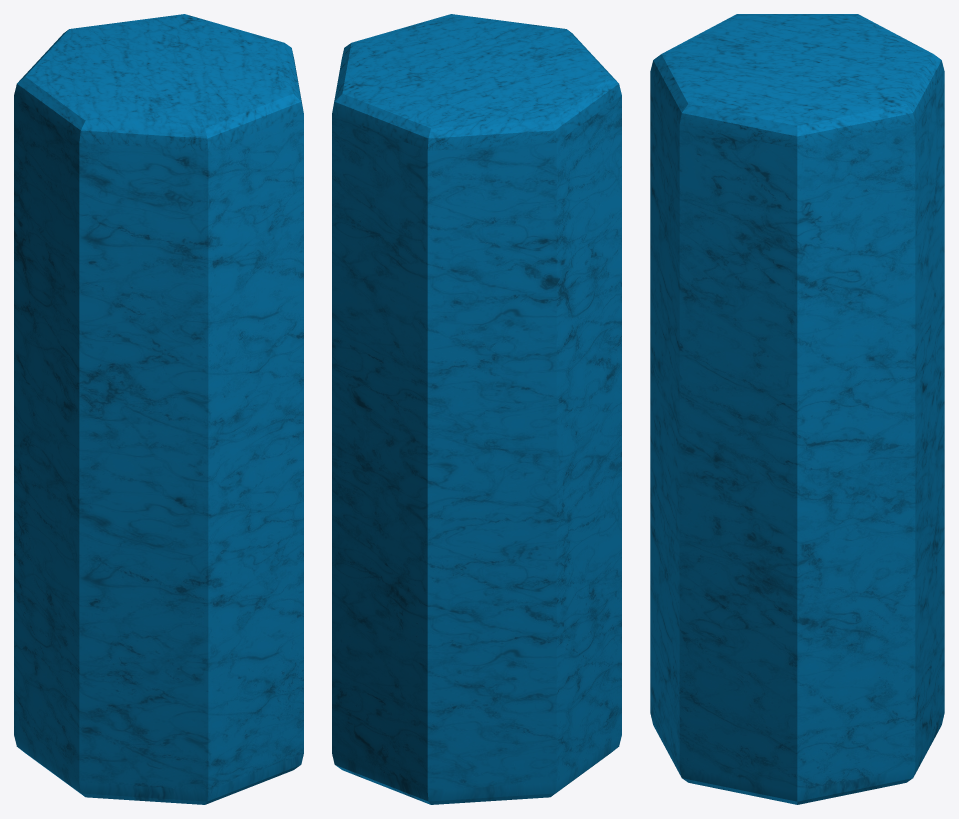
File: ModeloBaseSistMon.FBX
3 renders of one model, left to right at view 1: azimuth 30°, elevation 25°; view 2: azimuth 150°, elevation 25°; view 3: azimuth 270°, elevation 25°, orthographic.
Visible parts, largest first — view 1: BaseSistemaMontañoso; view 2: BaseSistemaMontañoso; view 3: BaseSistemaMontañoso.
Part boxes in pixels (left/top/right/bottom): BaseSistemaMontañoso: left=14, top=14, right=303, bottom=804; BaseSistemaMontañoso: left=332, top=14, right=621, bottom=804; BaseSistemaMontañoso: left=650, top=14, right=944, bottom=804.
Bounding box in the file's own units: 570 × 585 × 1500.
Materials: 1 (1 with a texture image).
